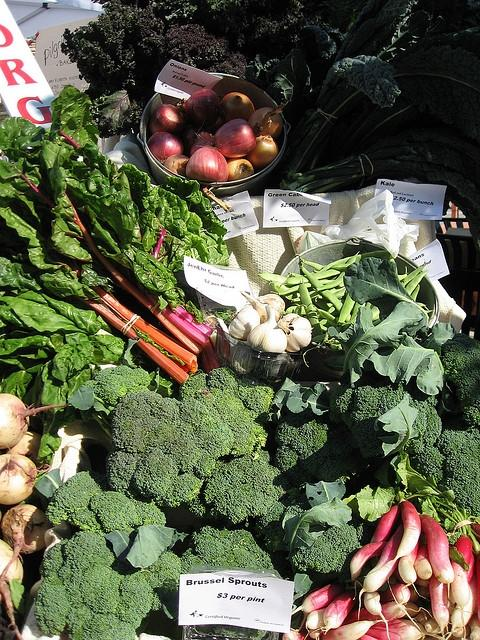broccoli: (330, 368, 442, 459), (111, 390, 216, 480), (179, 368, 275, 458), (203, 449, 292, 524), (274, 407, 359, 484), (435, 428, 480, 516), (439, 329, 480, 425), (290, 524, 363, 574), (190, 526, 274, 568), (46, 471, 102, 526), (79, 365, 152, 406), (134, 448, 180, 501), (116, 572, 156, 630), (80, 564, 125, 614), (90, 491, 137, 532), (156, 471, 204, 508), (67, 508, 108, 536)
garlic: (248, 306, 287, 352), (238, 289, 286, 324), (276, 313, 314, 352), (228, 306, 260, 341)
green bean: (372, 259, 426, 320), (301, 267, 352, 322), (312, 250, 360, 292), (313, 250, 390, 274), (300, 278, 322, 338), (278, 269, 344, 289), (270, 279, 336, 296), (273, 282, 302, 305), (406, 270, 430, 296), (291, 253, 325, 271), (308, 308, 338, 328), (338, 293, 355, 325), (315, 288, 347, 302), (258, 272, 288, 284), (350, 302, 366, 320), (312, 298, 330, 310), (411, 284, 420, 301), (366, 302, 374, 310), (398, 274, 407, 281), (323, 276, 333, 280)
onion: (0, 394, 72, 449), (1, 504, 52, 581), (186, 144, 232, 213), (0, 540, 24, 638), (0, 454, 38, 506), (214, 119, 262, 158), (146, 104, 186, 146), (184, 88, 221, 126), (6, 430, 42, 468), (248, 105, 285, 139), (147, 132, 184, 165), (220, 92, 255, 125), (246, 134, 279, 167), (154, 150, 190, 178), (226, 157, 254, 187), (200, 132, 214, 144)
radish: (358, 521, 404, 621), (364, 501, 422, 577), (418, 512, 454, 602), (340, 601, 426, 631), (309, 588, 362, 636), (446, 568, 478, 639), (450, 536, 472, 628), (370, 505, 401, 569), (398, 538, 426, 600), (292, 584, 344, 616), (428, 572, 450, 640), (350, 542, 388, 580), (364, 591, 391, 640), (320, 620, 389, 639), (378, 576, 412, 606), (364, 625, 425, 639), (414, 544, 432, 580), (425, 617, 452, 634), (442, 624, 471, 638), (467, 613, 480, 640), (466, 552, 476, 584), (282, 628, 307, 640), (470, 523, 480, 536), (358, 634, 378, 640)
